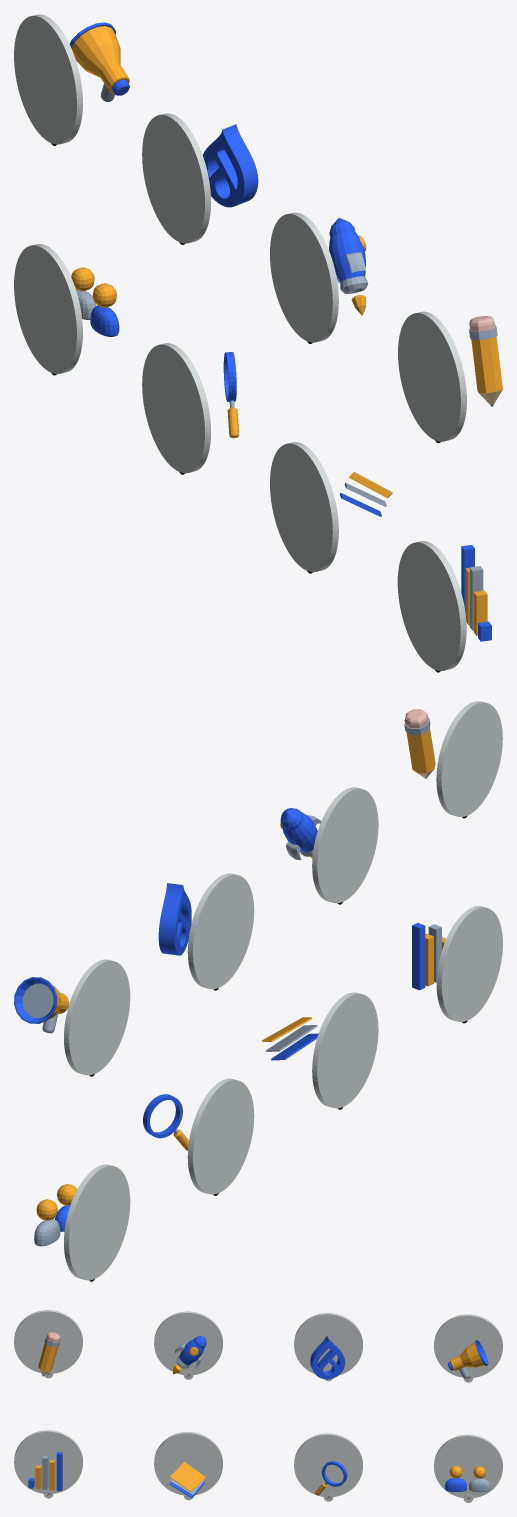
File: void_3d_menu_draco.glb
3 renders of one model, top to bottom at view 1: azimuth 30°, elevation 25°; view 2: azimuth 150°, elevation 25°; view 3: azimuth 270°, elevation 25°, orthographic. The views are drawn at different scales.
Parts seen in each view (by area): view 1: rond-ui-item-05, rond-ui-item-04, rond-ui-item-01, rond-ui-item-02, rond-ui-item-03, rond-ui-item-07, rond-ui-item-06, rond-ui-item-08, drupal-item, megaphone-item, UX-pencil-item, fusee-big-tronc (+2 smaller); view 2: rond-ui-item-02, rond-ui-item-06, rond-ui-item-01, rond-ui-item-04, rond-ui-item-05, rond-ui-item-08, rond-ui-item-07, rond-ui-item-03, megaphone-item, drupal-item, UX-pencil-item, fusee-big-tronc (+2 smaller); view 3: rond-ui-item-07, rond-ui-item-01, rond-ui-item-02, rond-ui-item-05, rond-ui-item-04, rond-ui-item-08, rond-ui-item-06, rond-ui-item-03, drupal-item, megaphone-item, fusee-big-tronc, UX-pencil-item (+6 smaller).
Boxes of the visible parts, x1,y1,x2,y2 form: rond-ui-item-05: (397, 541, 466, 670); rond-ui-item-04: (14, 14, 82, 144); rond-ui-item-01: (398, 311, 466, 441); rond-ui-item-02: (270, 212, 338, 342); rond-ui-item-03: (142, 113, 210, 243); rond-ui-item-07: (142, 343, 210, 473); rond-ui-item-06: (270, 442, 338, 572); rond-ui-item-08: (14, 244, 82, 373); drupal-item: (202, 124, 258, 207); megaphone-item: (69, 22, 129, 101); UX-pencil-item: (469, 316, 502, 406); fusee-big-tronc: (329, 217, 368, 293); rond-ui-item-02: (312, 787, 378, 903); rond-ui-item-06: (312, 992, 378, 1108); rond-ui-item-01: (436, 701, 502, 816); rond-ui-item-04: (64, 959, 130, 1075); rond-ui-item-05: (436, 906, 502, 1021); rond-ui-item-08: (64, 1164, 130, 1280); rond-ui-item-07: (187, 1078, 254, 1194); rond-ui-item-03: (187, 873, 254, 989); megaphone-item: (14, 977, 68, 1033); drupal-item: (158, 883, 191, 955); UX-pencil-item: (404, 709, 435, 778); fusee-big-tronc: (280, 808, 321, 860); rond-ui-item-07: (294, 1433, 362, 1496); rond-ui-item-01: (14, 1310, 82, 1373); rond-ui-item-02: (154, 1311, 222, 1374); rond-ui-item-05: (14, 1430, 82, 1493); rond-ui-item-04: (434, 1314, 502, 1377); rond-ui-item-08: (434, 1434, 502, 1498); rond-ui-item-06: (154, 1431, 222, 1495); rond-ui-item-03: (294, 1313, 362, 1375); drupal-item: (310, 1336, 345, 1379); megaphone-item: (448, 1340, 488, 1378); fusee-big-tronc: (175, 1336, 206, 1368); UX-pencil-item: (38, 1332, 60, 1376).
Size of the model in its own units: 5.43 by 18.28 by 43.37.
7 materials, 1 textured.
